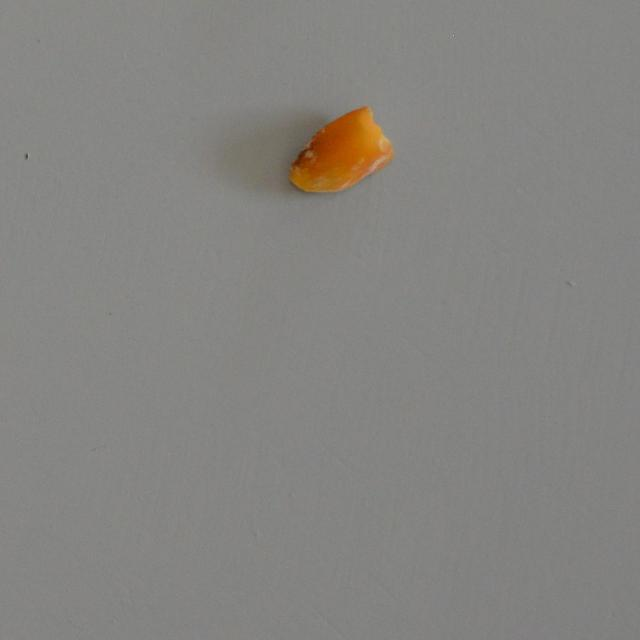dañado: (281, 101, 399, 199)
